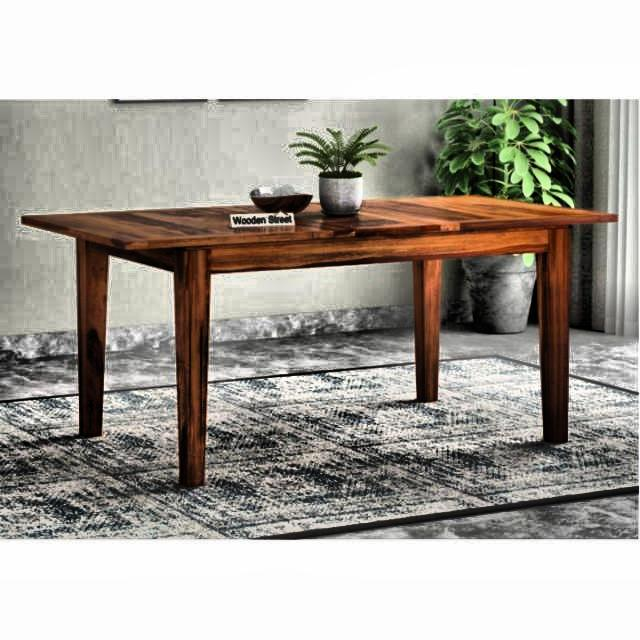mesa: (17, 180, 624, 480)
